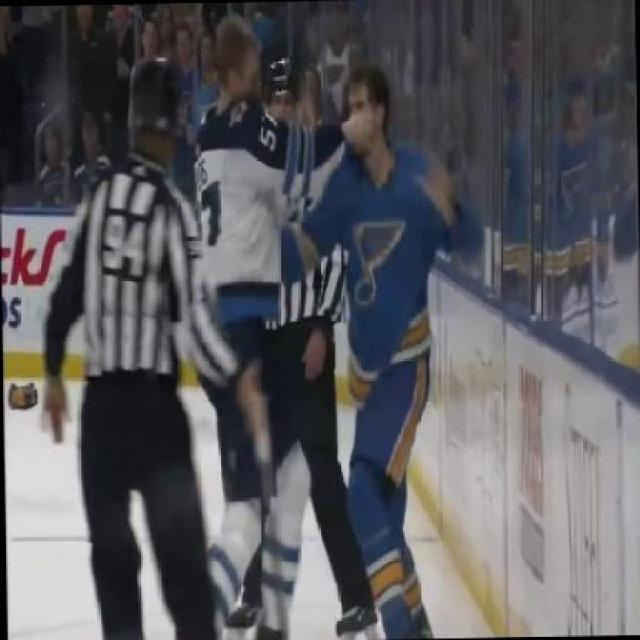fight: (193, 13, 489, 521)
non-fight: (56, 54, 218, 636)
